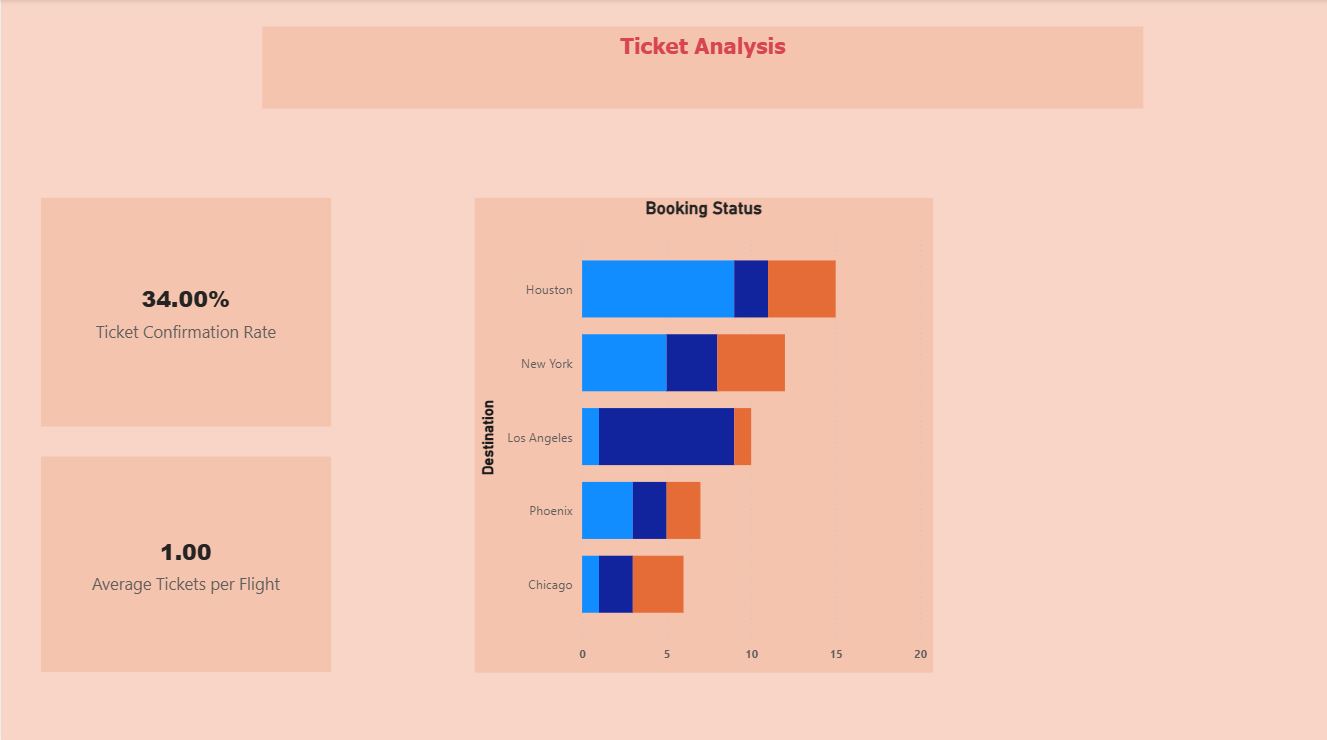

This screenshot's page, from the dashboard's own definition file:
{"tool":"powerbi","page":{"name":"Ticket Analysis","canvas":[1280,720],"ordinal":5},"visuals":[{"type":"card","fields":{"Values":["passenger_information.Ticket Confirmation Rate"]},"box":[38.4,192,279.9,220.4],"z":0},{"type":"card","fields":{"Values":["ticket_information.Average Tickets per Flight"]},"box":[38.4,442.1,279.9,208.1],"z":1000},{"type":"barChart","title":"Booking Status","fields":{"Category":["flight_information.Destination"],"Series":["ticket_information.BookingStatus"],"Y":["CountNonNull(ticket_information.TicketID)"]},"box":[457,192,442.1,458.2],"z":2000},{"type":"textbox","box":[252.6,26,850.8,79.3],"z":3000}]}

Visuals, with their boxes in screenshot pixels (x1, y1, x2, y2), scaled from the page's 1280x720 canvas onto the 1327x740 screenshot:
card - passenger_information.Ticket Confirmation Rate: bbox(40, 197, 330, 424)
card - ticket_information.Average Tickets per Flight: bbox(40, 454, 330, 668)
"Booking Status" barChart: bbox(474, 197, 932, 668)
textbox: bbox(262, 27, 1144, 108)
